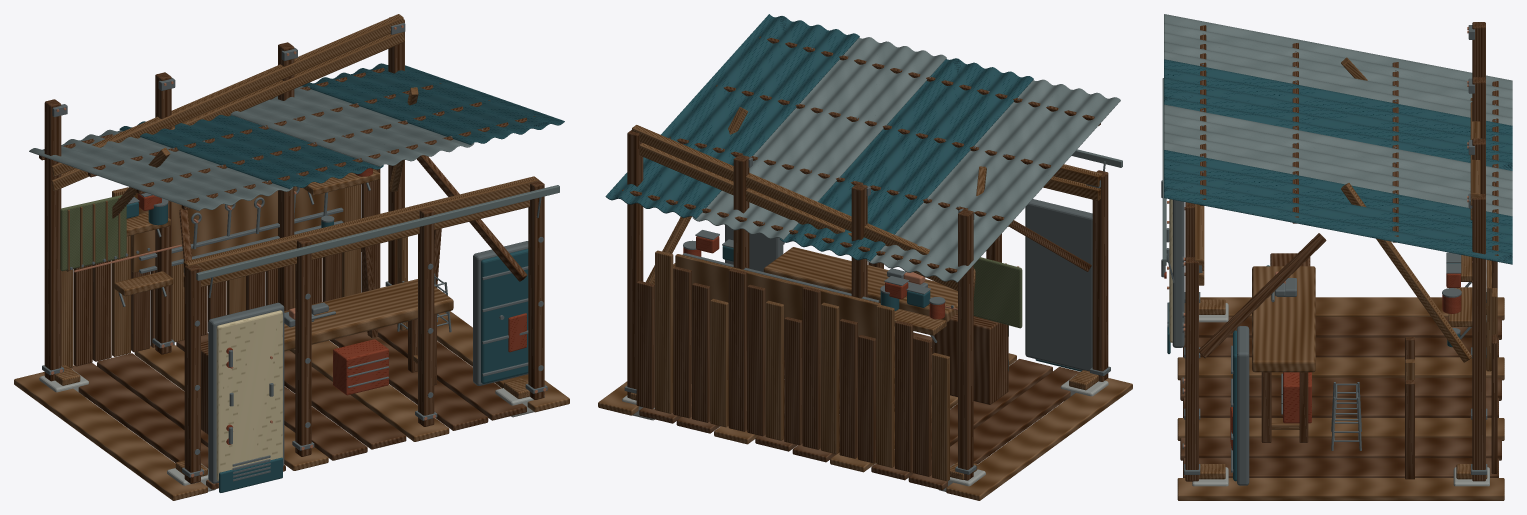
The model's file is scavenger_workshop.glb.
3 renders of one model, left to right at view 1: azimuth 30°, elevation 25°; view 2: azimuth 150°, elevation 25°; view 3: azimuth 270°, elevation 25°, orthographic. The views are drawn at different scales.
Parts seen in each view (by area): view 1: Scavenger_Reclaimed_cedar_and_drawer_wood, Scavenger_Sun-faded_drawer_wood, Scavenger_Chipped_blue-green_appliance_enamel, Scavenger_Weathered_galvanized_roofing, Scavenger_Blackened_salvaged_iron, Scavenger_Chipped_cream_appliance_enamel, Scavenger_Faded_red_appliance_enamel, Scavenger_Patched_olive_canvas, Scavenger_Pitted_concrete_blocks, Scavenger_Oxide_red_fastener_heads; view 2: Scavenger_Reclaimed_cedar_and_drawer_wood, Scavenger_Sun-faded_drawer_wood, Scavenger_Chipped_blue-green_appliance_enamel, Scavenger_Weathered_galvanized_roofing, Scavenger_Blackened_salvaged_iron, Scavenger_Patched_olive_canvas, Scavenger_Faded_red_appliance_enamel, Scavenger_Pitted_concrete_blocks; view 3: Scavenger_Reclaimed_cedar_and_drawer_wood, Scavenger_Sun-faded_drawer_wood, Scavenger_Chipped_blue-green_appliance_enamel, Scavenger_Weathered_galvanized_roofing, Scavenger_Blackened_salvaged_iron, Scavenger_Faded_red_appliance_enamel, Scavenger_Pitted_concrete_blocks, Scavenger_Chipped_cream_appliance_enamel.
Boxes of the visible parts, box(x1,y1,x2,y2) form: Scavenger_Reclaimed_cedar_and_drawer_wood: box(39, 17, 544, 489); Scavenger_Sun-faded_drawer_wood: box(14, 14, 569, 500); Scavenger_Chipped_blue-green_appliance_enamel: box(119, 63, 564, 492); Scavenger_Weathered_galvanized_roofing: box(29, 86, 559, 280); Scavenger_Blackened_salvaged_iron: box(42, 23, 547, 483); Scavenger_Chipped_cream_appliance_enamel: box(216, 310, 282, 480); Scavenger_Faded_red_appliance_enamel: box(137, 168, 526, 444); Scavenger_Patched_olive_canvas: box(60, 195, 126, 271); Scavenger_Pitted_concrete_blocks: box(39, 369, 544, 491); Scavenger_Oxide_red_fastener_heads: box(51, 25, 546, 477); Scavenger_Reclaimed_cedar_and_drawer_wood: box(622, 36, 1108, 490); Scavenger_Sun-faded_drawer_wood: box(598, 107, 1132, 500); Scavenger_Chipped_blue-green_appliance_enamel: box(605, 14, 1082, 371); Scavenger_Weathered_galvanized_roofing: box(692, 37, 1122, 282); Scavenger_Blackened_salvaged_iron: box(624, 48, 1110, 474); Scavenger_Patched_olive_canvas: box(973, 257, 1022, 328); Scavenger_Faded_red_appliance_enamel: box(683, 236, 944, 319); Scavenger_Pitted_concrete_blocks: box(622, 374, 1108, 491); Scavenger_Reclaimed_cedar_and_drawer_wood: box(1180, 22, 1501, 481); Scavenger_Sun-faded_drawer_wood: box(1177, 57, 1504, 500); Scavenger_Chipped_blue-green_appliance_enamel: box(1164, 59, 1512, 481); Scavenger_Weathered_galvanized_roofing: box(1162, 14, 1512, 265); Scavenger_Blackened_salvaged_iron: box(1161, 25, 1496, 485); Scavenger_Faded_red_appliance_enamel: box(1164, 271, 1461, 450); Scavenger_Pitted_concrete_blocks: box(1192, 303, 1489, 486); Scavenger_Chipped_cream_appliance_enamel: box(1169, 199, 1172, 342).
Size of the model in its own units: 25.9 by 18.65 by 19.36.
Materials: 10 (7 with a texture image).
